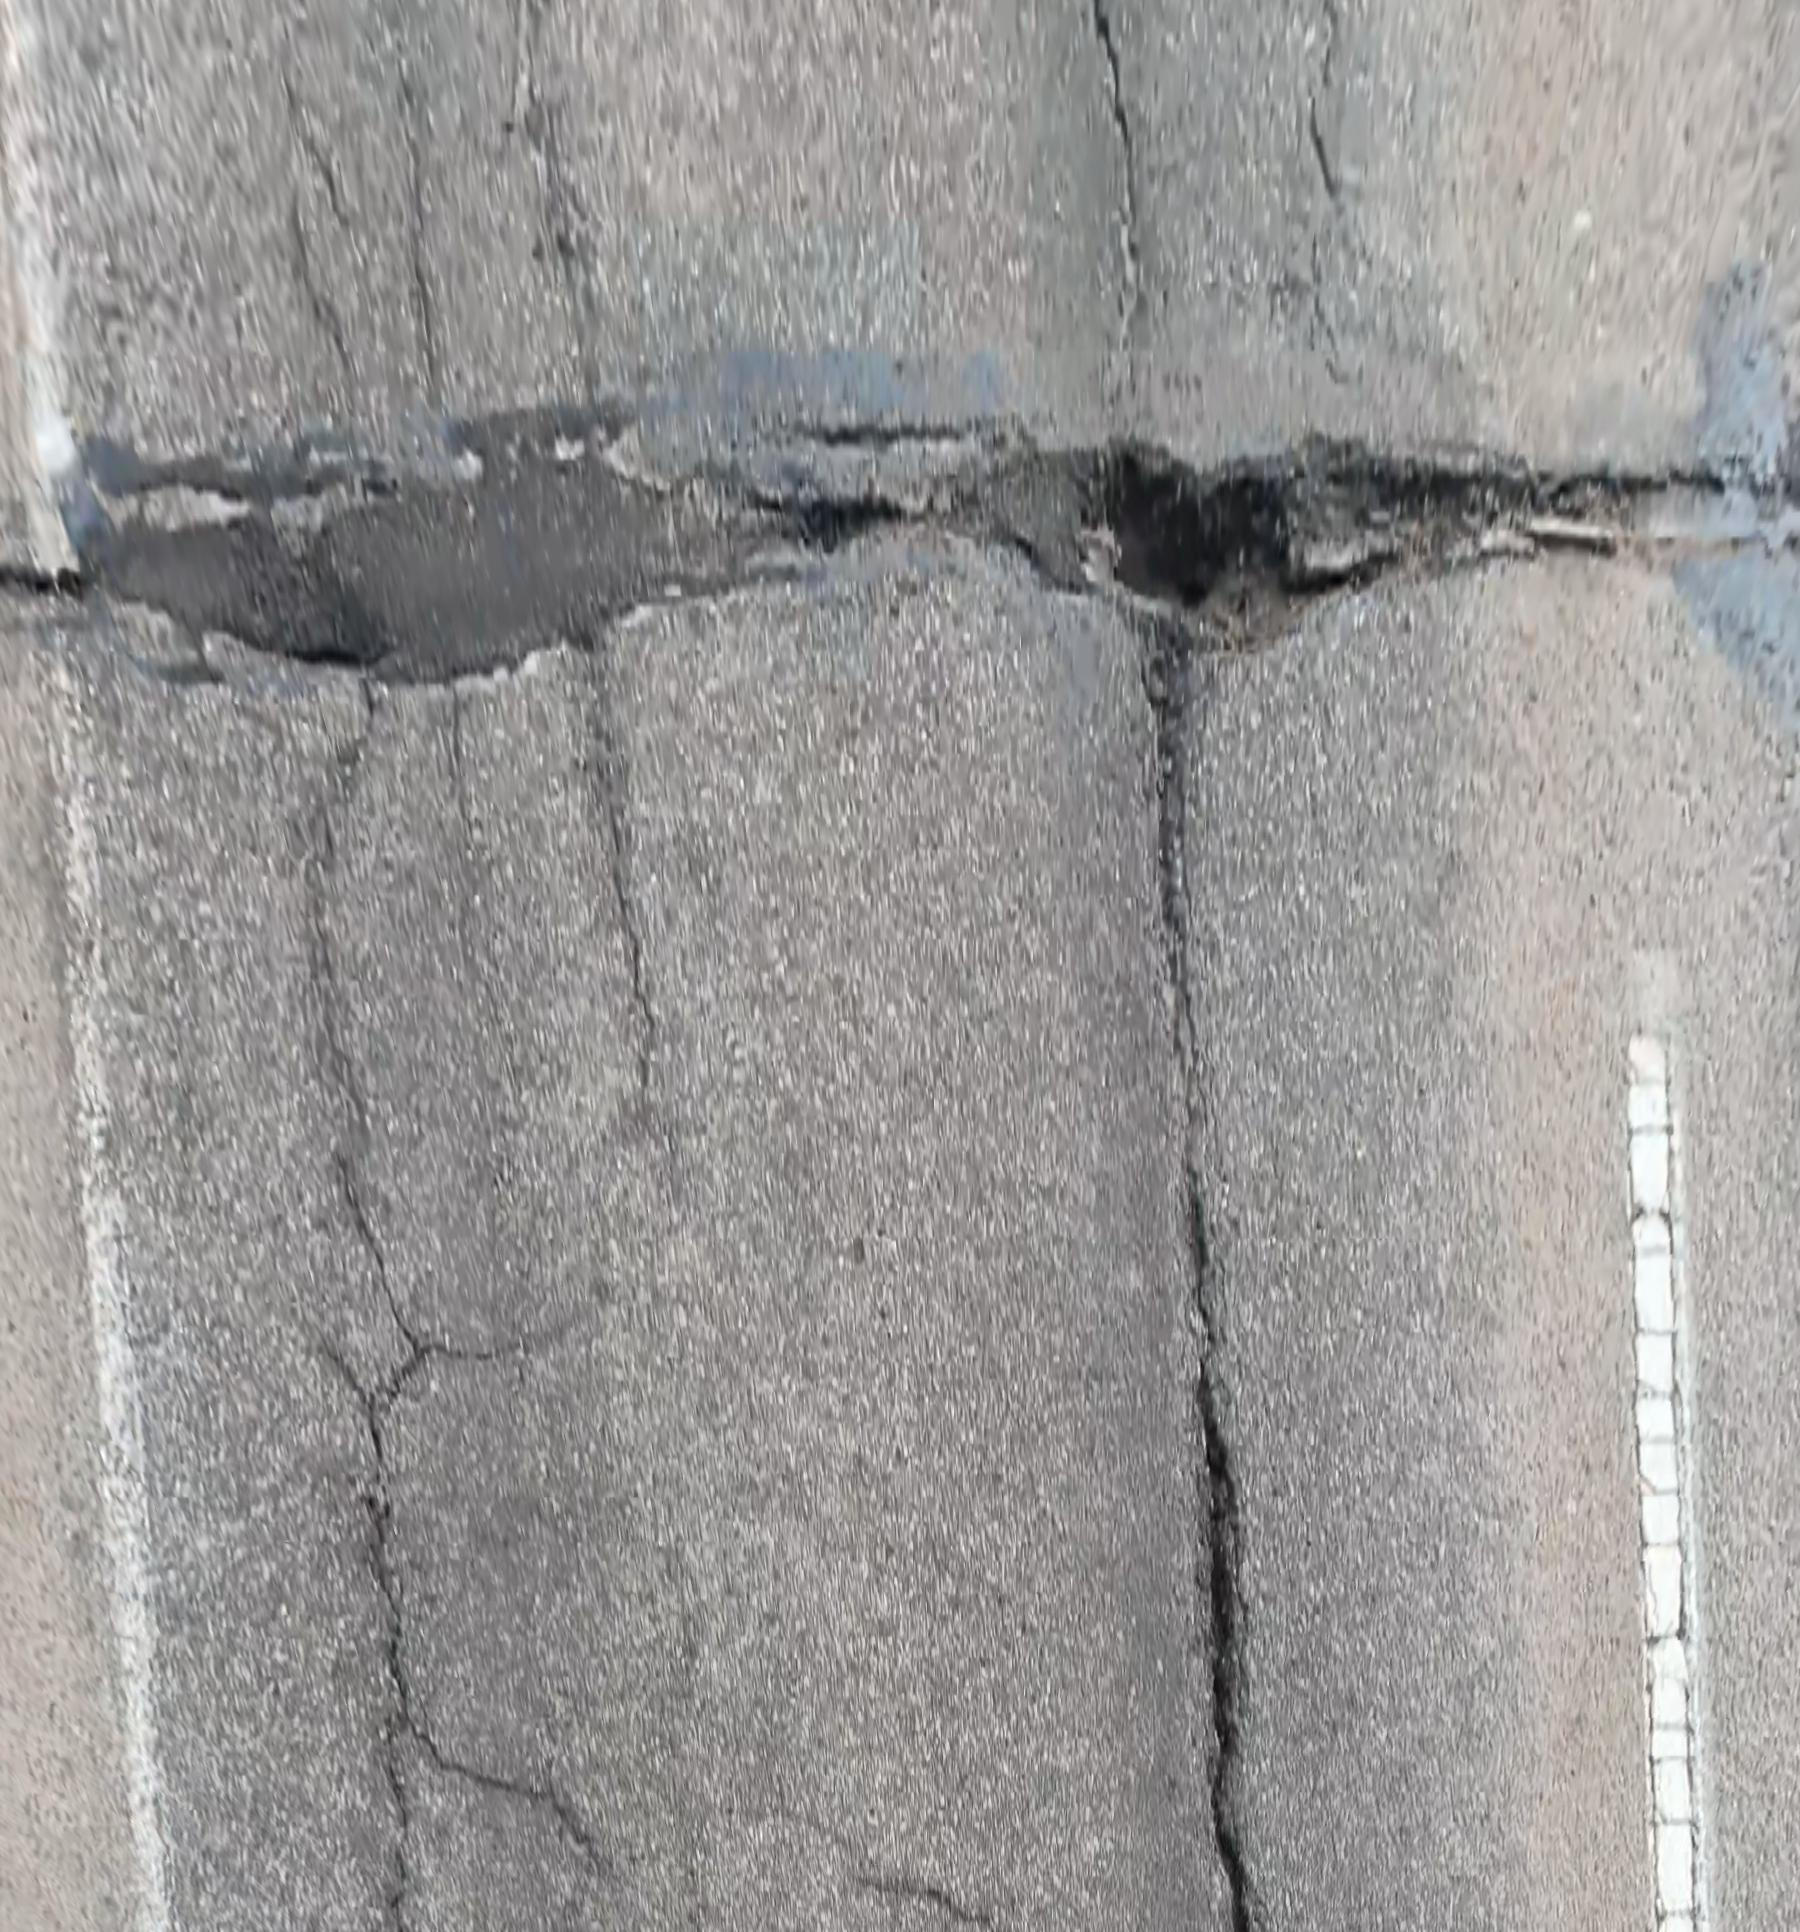pothole: (1079, 433, 1521, 633), (1531, 479, 1798, 550), (85, 470, 325, 541), (744, 472, 905, 550)
pothole_patch_good: (641, 340, 995, 447), (1678, 540, 1798, 751), (1685, 267, 1793, 492), (1314, 550, 1335, 579), (120, 487, 127, 491)
pothole_patch_poor: (46, 386, 778, 690), (932, 428, 1350, 653)
